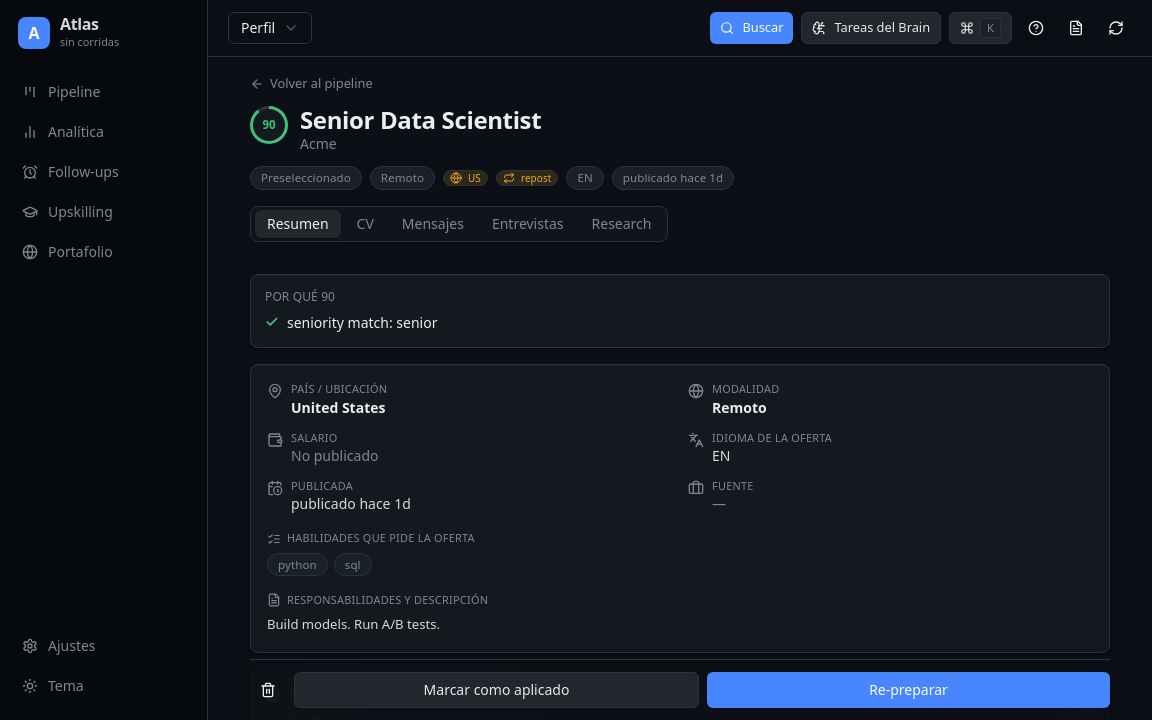
Test: JobDetailPage — página /jobs/:id con tabs › el tab Research muestra la investigación de la empresa cuando está presente
The image size is (1152, 720).
Expected: the heading "Senior Data Scientist" is shown, [300,103,541,136]
Step 1. Click the tab "Research" → {"x": 621, "y": 224}, box [580,210,663,238]
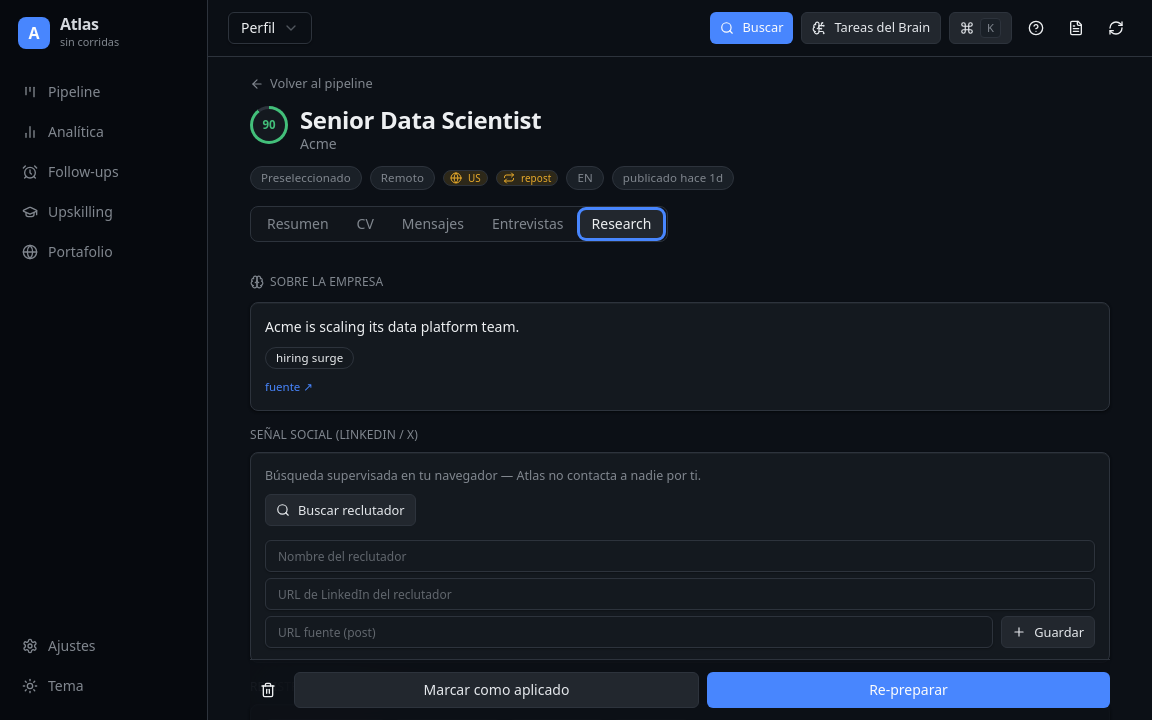
Now the text "Sobre la empresa" is shown, box [250,274,383,290]
Now the text "Acme is scaling its data platform team." is shown, box [265,317,519,336]
Now the text "hiring surge" is shown, box [265,347,354,369]
